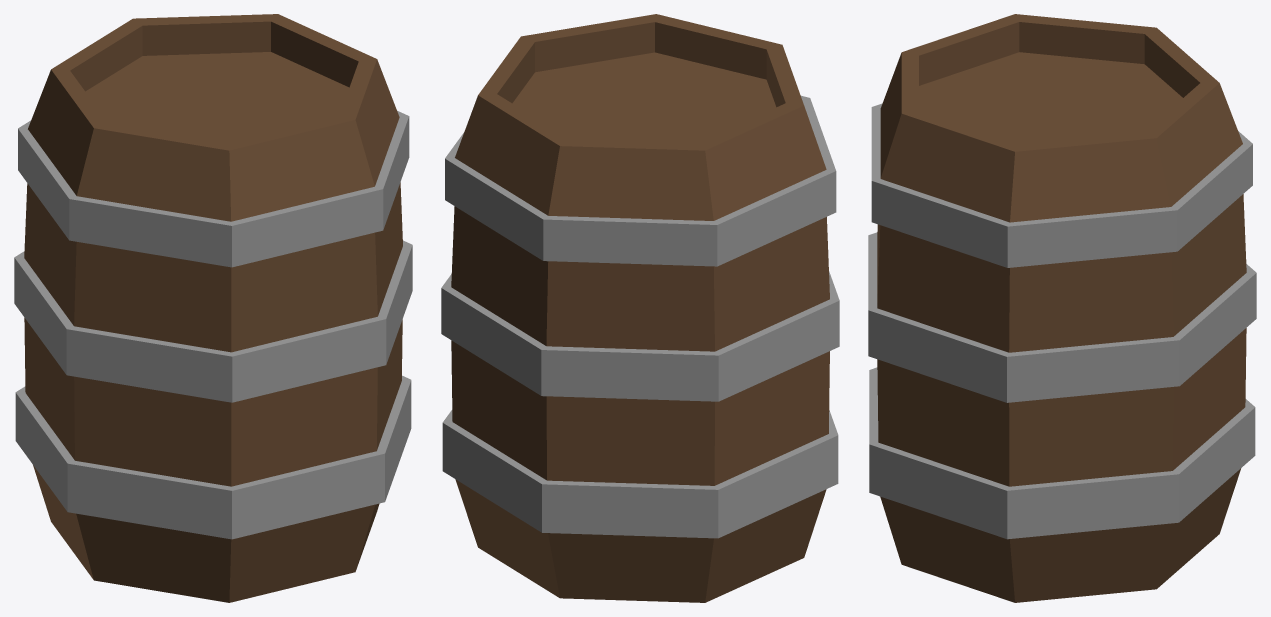
The model's file is barrel_1.fbx.
3 renders of one model, left to right at view 1: azimuth 30°, elevation 25°; view 2: azimuth 150°, elevation 25°; view 3: azimuth 270°, elevation 25°, orthographic.
Parts seen in each view (by area): view 1: Cylinder.001; view 2: Cylinder.001; view 3: Cylinder.001.
Part boxes in pixels (bbox=[...]): Cylinder.001: bbox=[14, 14, 412, 602]; Cylinder.001: bbox=[441, 14, 839, 602]; Cylinder.001: bbox=[868, 14, 1256, 602].
Bounding box in the file's own units: 99.38 × 124 × 96.89.
